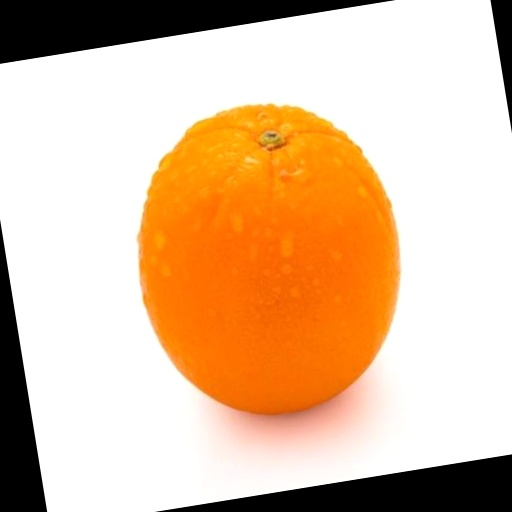fruit: (139, 105, 399, 413)
